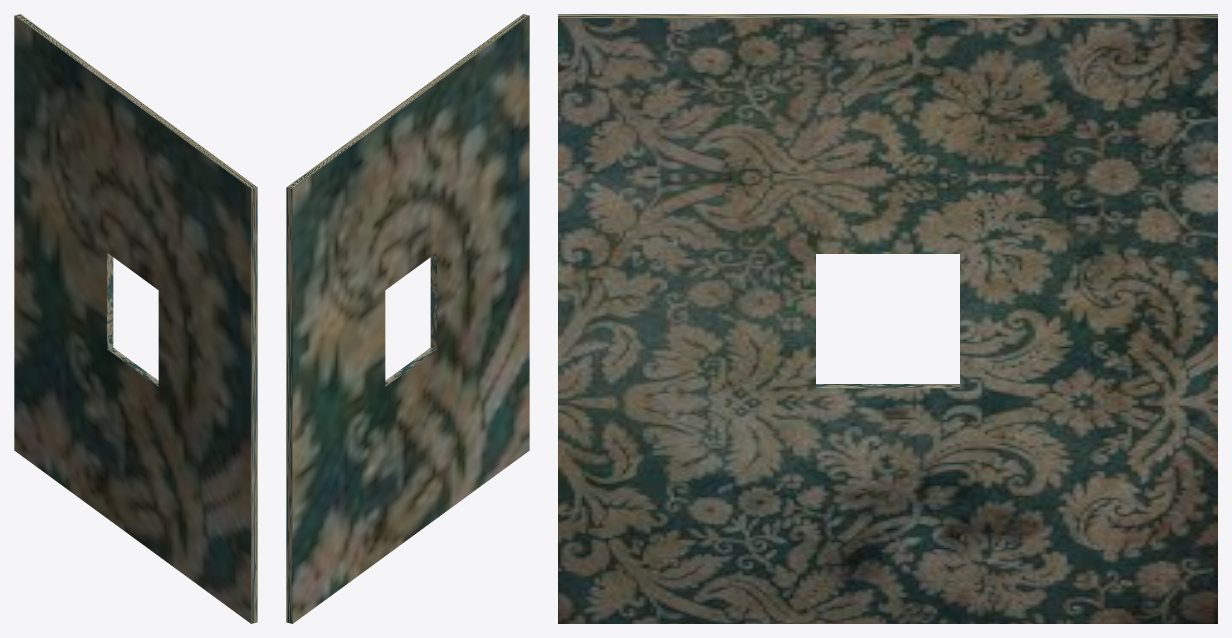
The model's file is hole_wall.fbx.
The picture shows the model from 3 angles, left to right: view 1: azimuth 30°, elevation 25°; view 2: azimuth 150°, elevation 25°; view 3: azimuth 270°, elevation 25°; orthographic projection. The views are drawn at different scales.
Visible parts, largest first — view 1: Cube; view 2: Cube; view 3: Cube.
Part boxes in pixels (left/top/right/bottom): Cube: left=14, top=14, right=257, bottom=623; Cube: left=286, top=14, right=529, bottom=623; Cube: left=558, top=14, right=1217, bottom=623.
Bounding box in the file's own units: 58.95 × 3866 × 3817.
